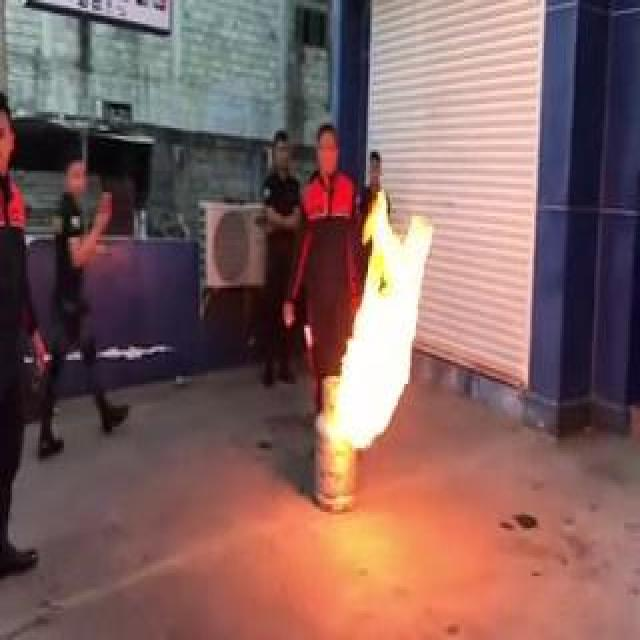Smoke: (336, 189, 434, 453)
